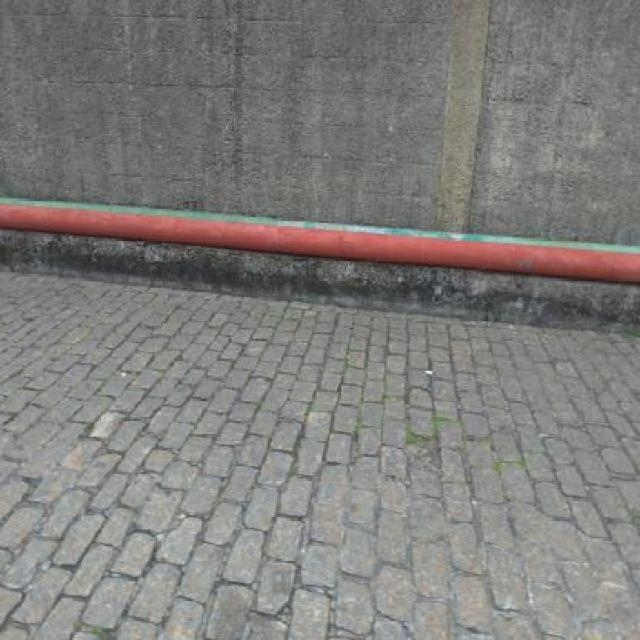gas: (3, 204, 640, 282)
